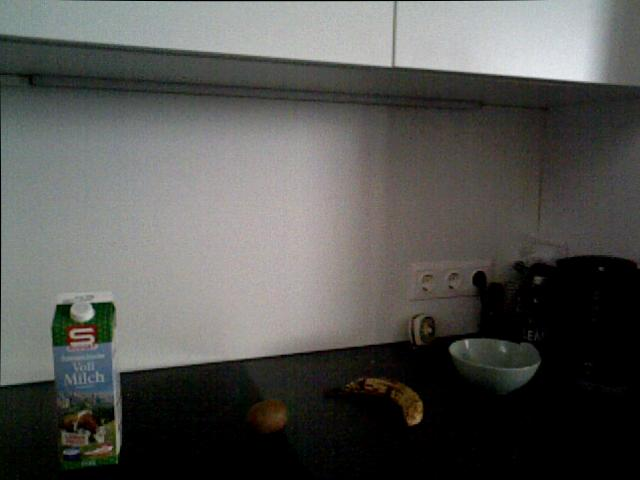bench: (49, 290, 127, 470), (526, 273, 551, 341)
bird: (448, 337, 541, 394)
giraffe: (405, 311, 440, 347)
motorcycle: (332, 370, 427, 430)
